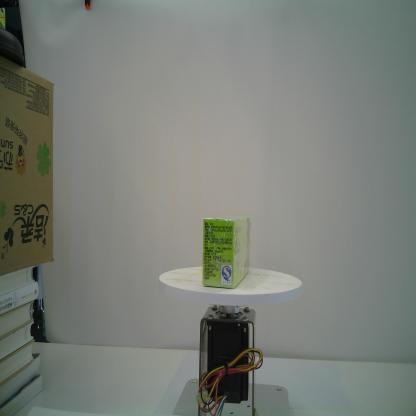Instant Drink: (202, 215, 254, 291)
